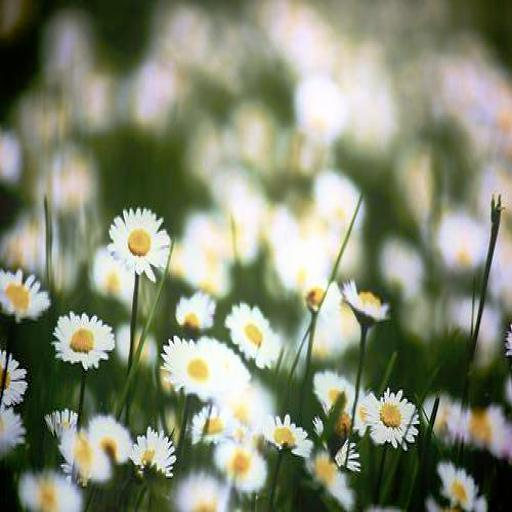daisy: (111, 206, 168, 282), (163, 339, 232, 399), (226, 298, 280, 366), (51, 308, 112, 367), (366, 391, 418, 446), (436, 463, 488, 512), (314, 372, 364, 420), (23, 472, 81, 512), (218, 443, 266, 491), (131, 432, 175, 479), (344, 282, 392, 324), (87, 418, 131, 463), (184, 407, 242, 441), (176, 290, 216, 326), (44, 402, 78, 440), (267, 418, 306, 451)
